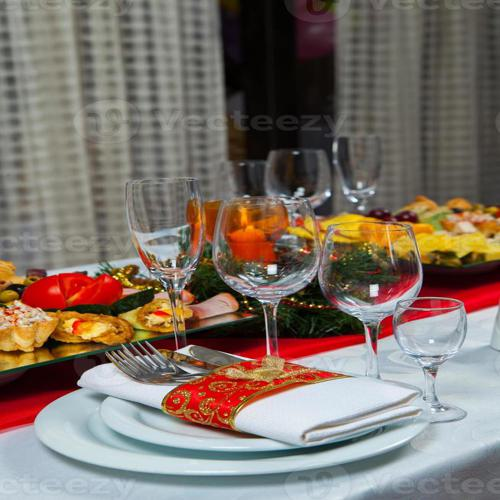copa: (320, 221, 421, 409), (211, 202, 324, 370), (124, 180, 209, 363), (392, 298, 476, 424), (264, 151, 336, 229), (330, 132, 387, 219)
